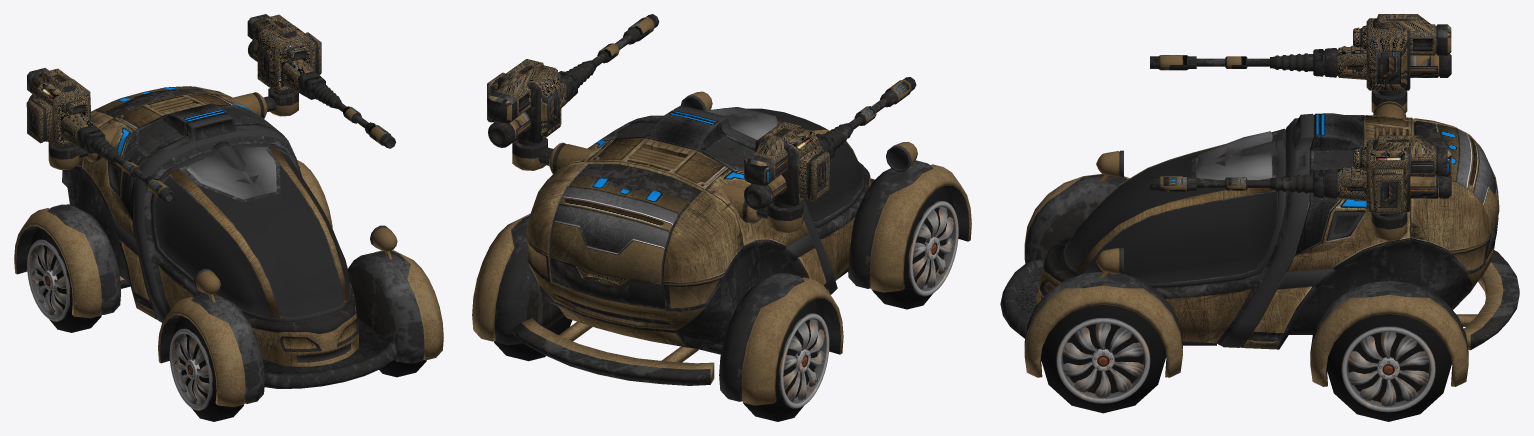
Rendered from vehicle.glb.
3 renders of one model, left to right at view 1: azimuth 30°, elevation 25°; view 2: azimuth 150°, elevation 25°; view 3: azimuth 270°, elevation 25°, orthographic. The views are drawn at different scales.
Parts seen in each view (by area): view 1: Object_7, Object_2, Object_8, Object_4, Object_3, Object_6, Object_5; view 2: Object_7, Object_2, Object_4, Object_8, Object_3, Object_6, Object_5; view 3: Object_7, Object_2, Object_4, Object_8, Object_3, Object_6, Object_5.
Boxes of the visible parts, box(x1,y1,x2,y2) form: Object_7: box(14, 14, 443, 407); Object_2: box(16, 14, 424, 403); Object_8: box(74, 51, 349, 316); Object_4: box(27, 228, 426, 421); Object_3: box(108, 113, 387, 322); Object_6: box(29, 20, 305, 140); Object_5: box(31, 246, 208, 391); Object_7: box(472, 17, 971, 405); Object_2: box(488, 14, 969, 401); Object_4: box(494, 187, 958, 421); Object_8: box(683, 98, 908, 222); Object_3: box(628, 95, 911, 294); Object_6: box(514, 65, 826, 203); Object_5: box(784, 211, 949, 401); Object_7: box(1015, 14, 1503, 386); Object_2: box(1000, 18, 1519, 384); Object_4: box(1040, 304, 1451, 421); Object_8: box(1066, 148, 1277, 282); Object_3: box(1068, 113, 1363, 347); Object_6: box(1344, 18, 1437, 208); Object_5: box(1063, 323, 1428, 406).
Size of the model in its own units: 116 by 97.11 by 164.
Materials: 6 (4 with a texture image).
